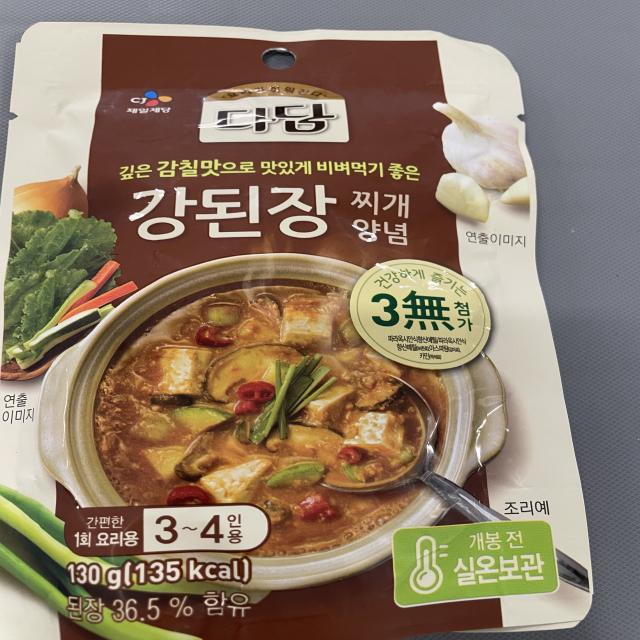object_name: (13, 25, 578, 624)
